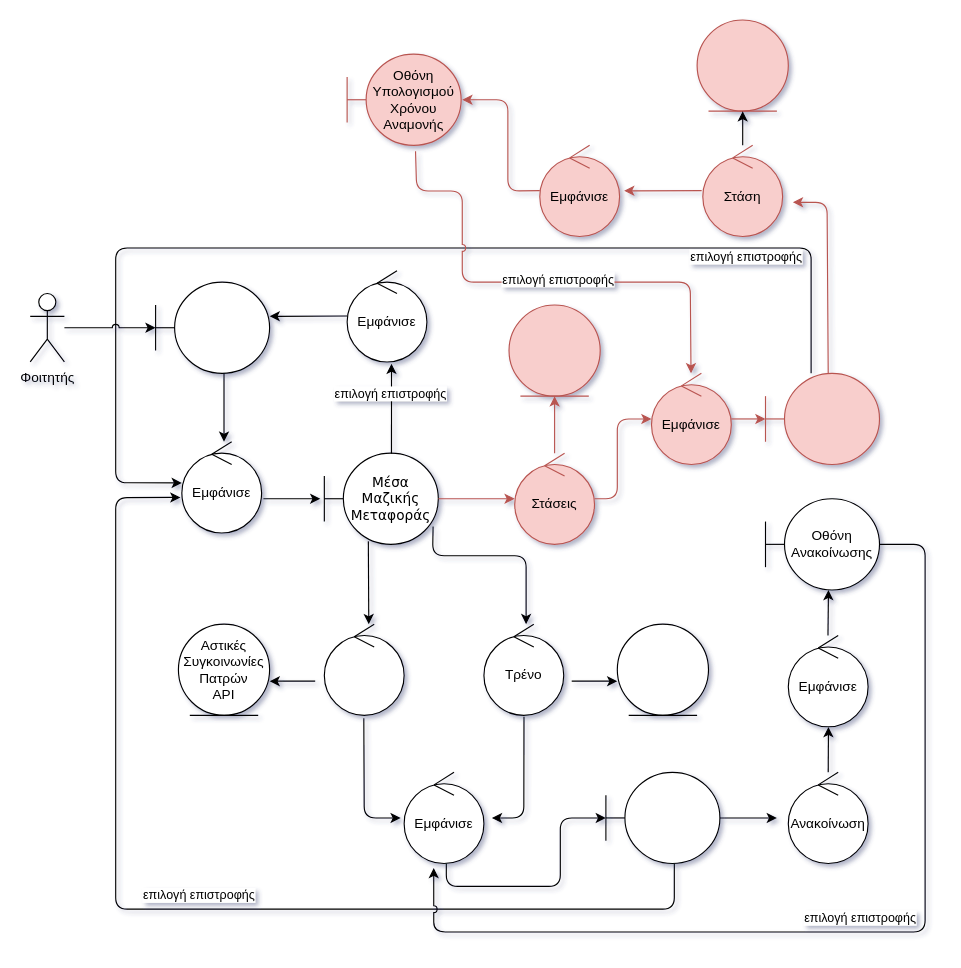
This 961x968 diagram has some shape labels left out. Here are the shapes that lost their labels. From the top down, the centre of each, then its label:
pixel 742 65: System
pixel 212 327: Κεντρικό Μενού
pixel 554 350: maps
pixel 822 418: Χάρτης Στάσεων
pixel 363 669: Λεωφορείο
pixel 662 669: Hellenic Train API
pixel 662 817: Οθόνη Δρομολόγιων
